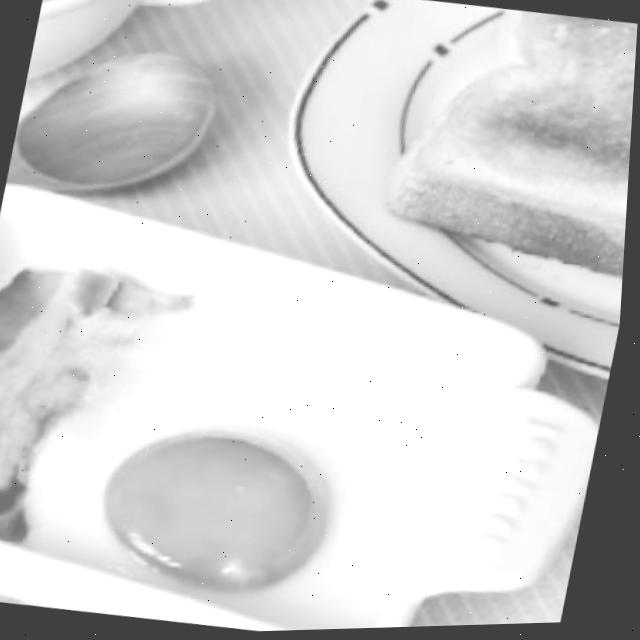鸡蛋料理: (1, 252, 512, 639)
